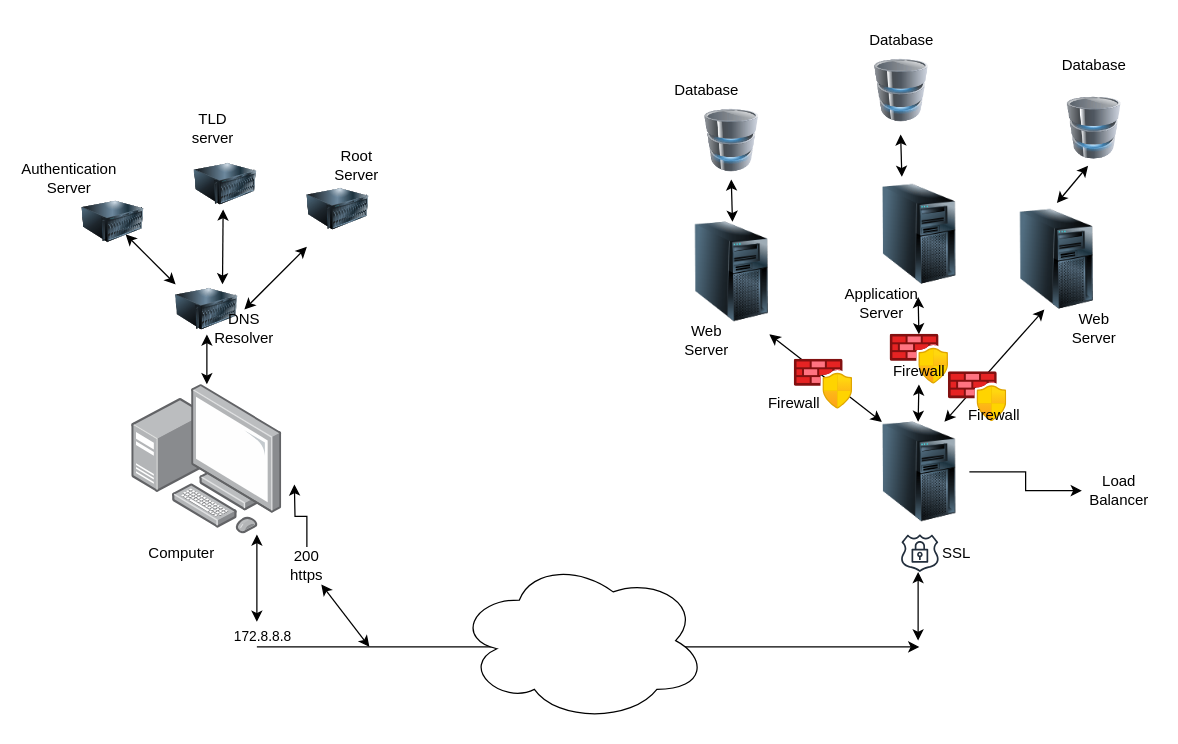
This 1178x744 diagram has some shape labels left out. The centre of each missing label's shape, as x and y in pixels:
"google.com" goes at (x=206, y=459).
"Internet" goes at (x=581, y=640).
